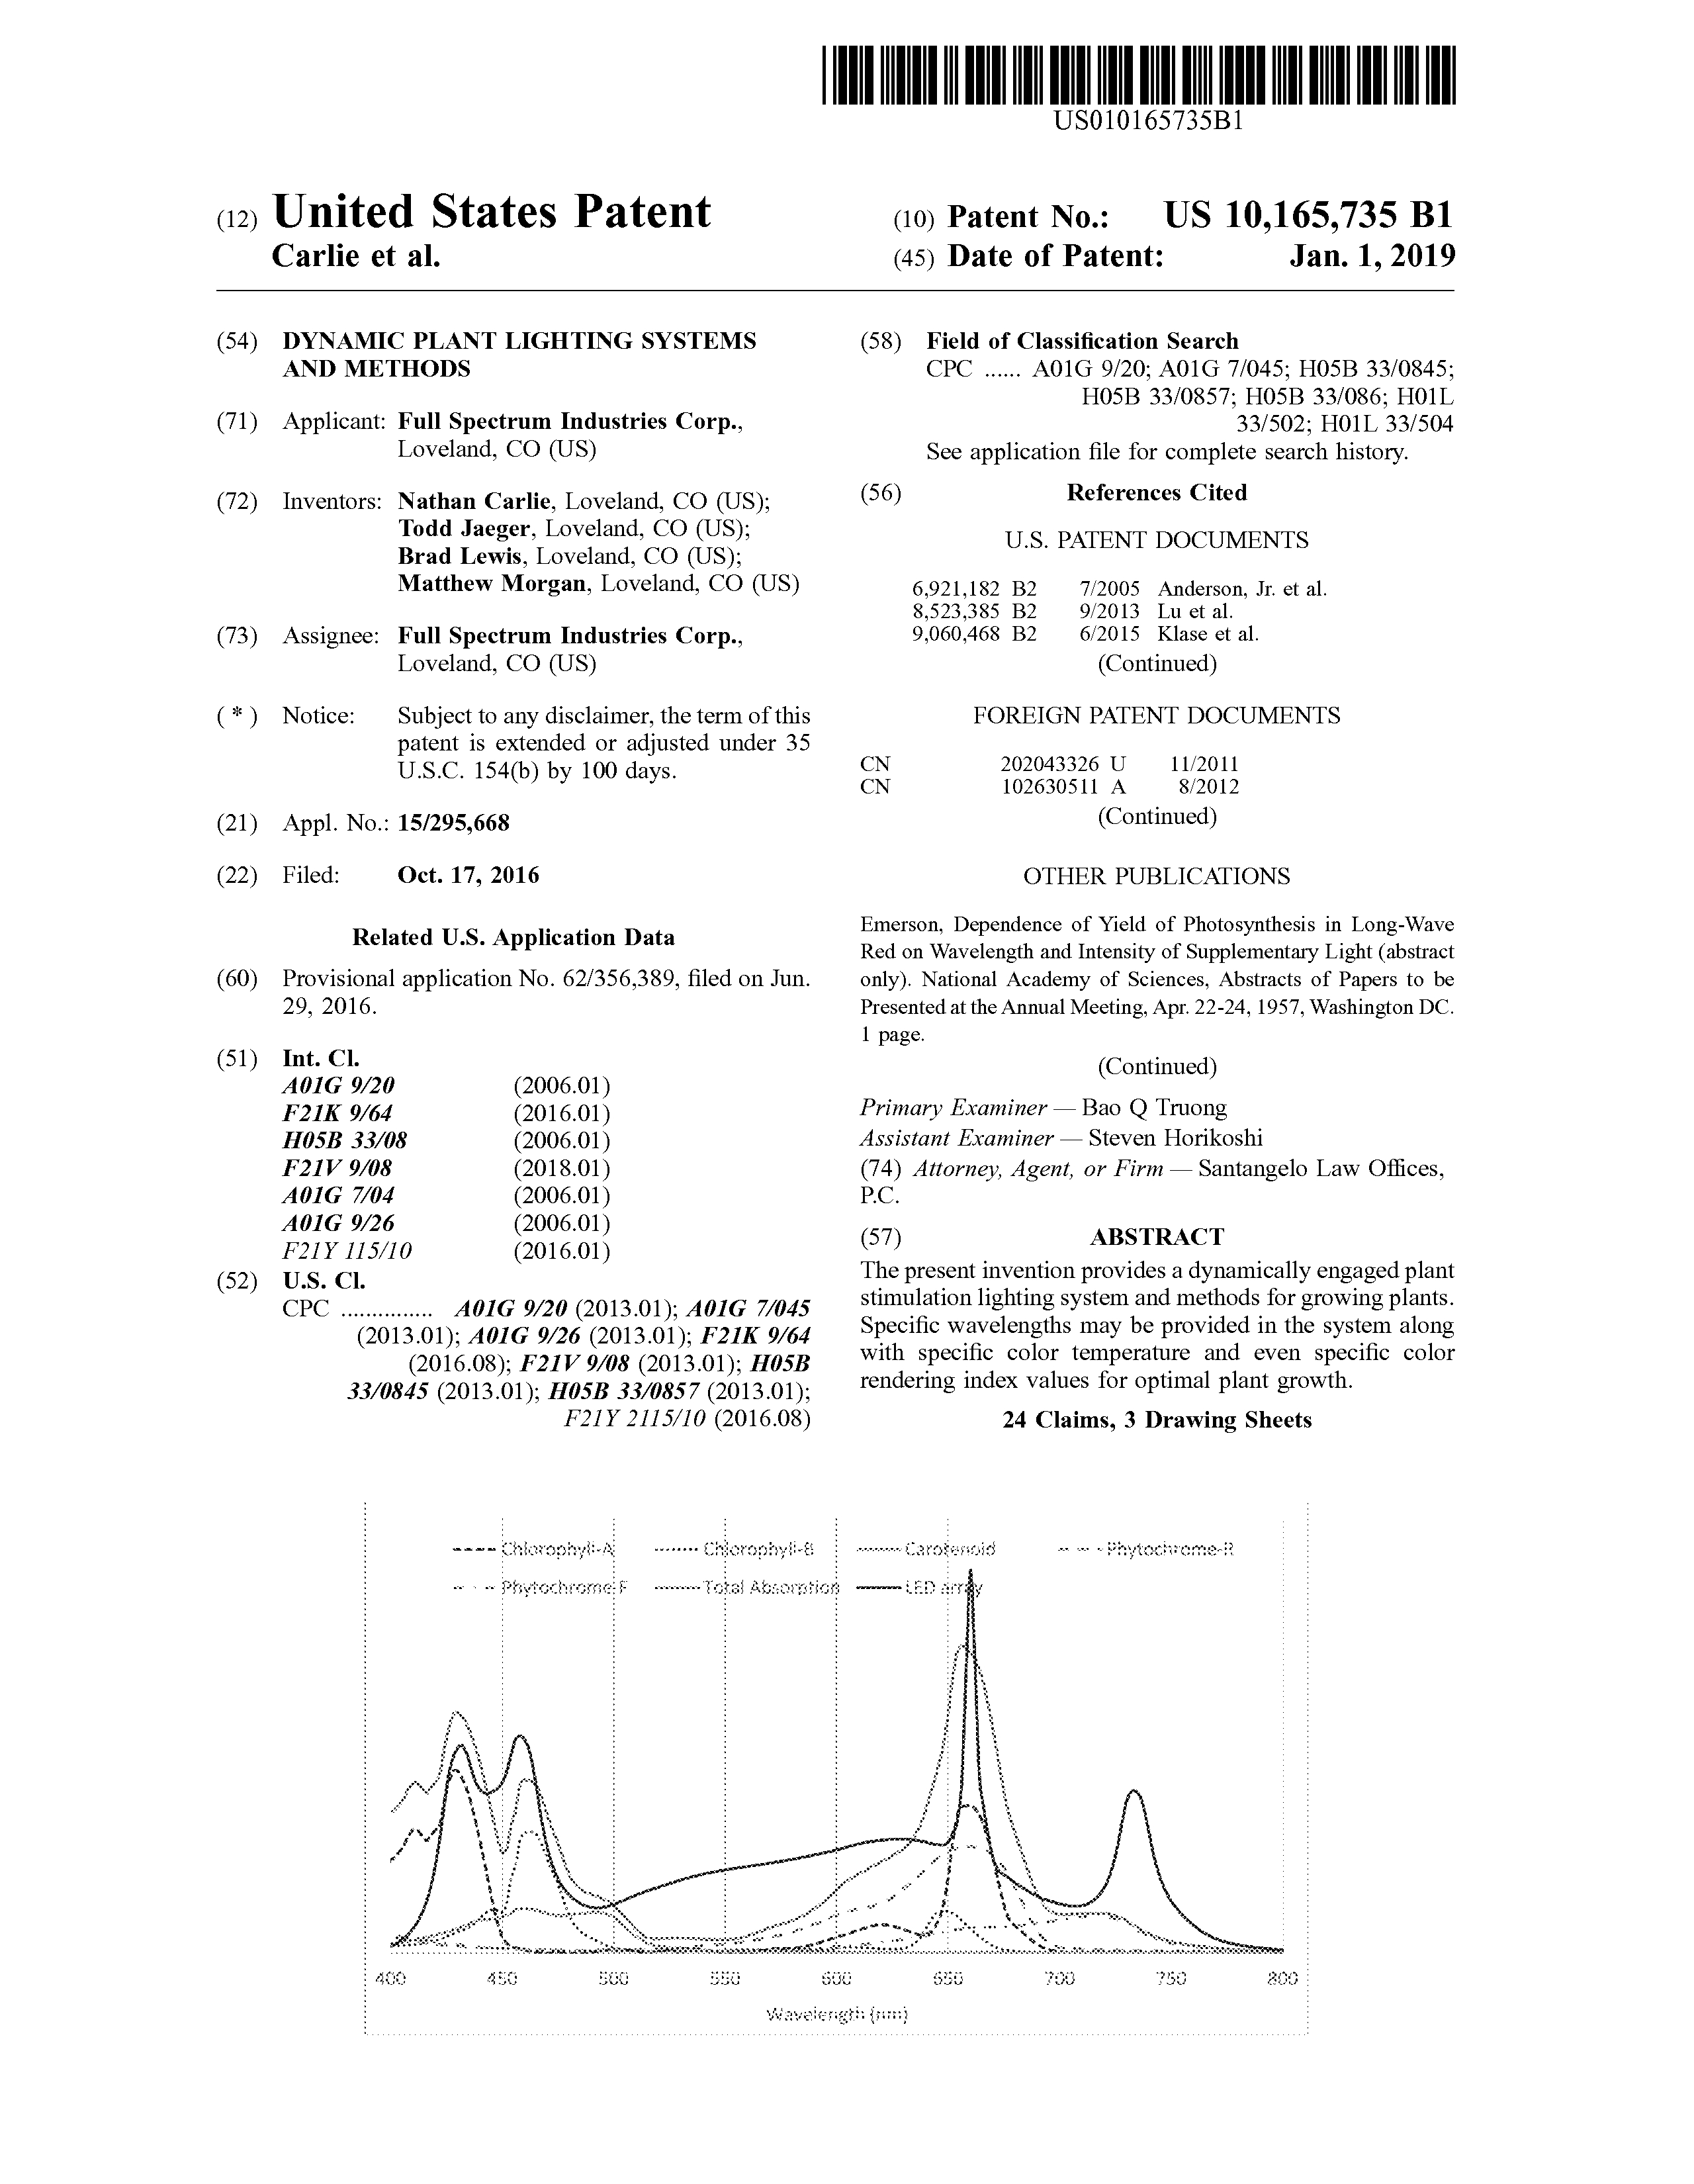patent image: (328, 1450, 1392, 2060)
